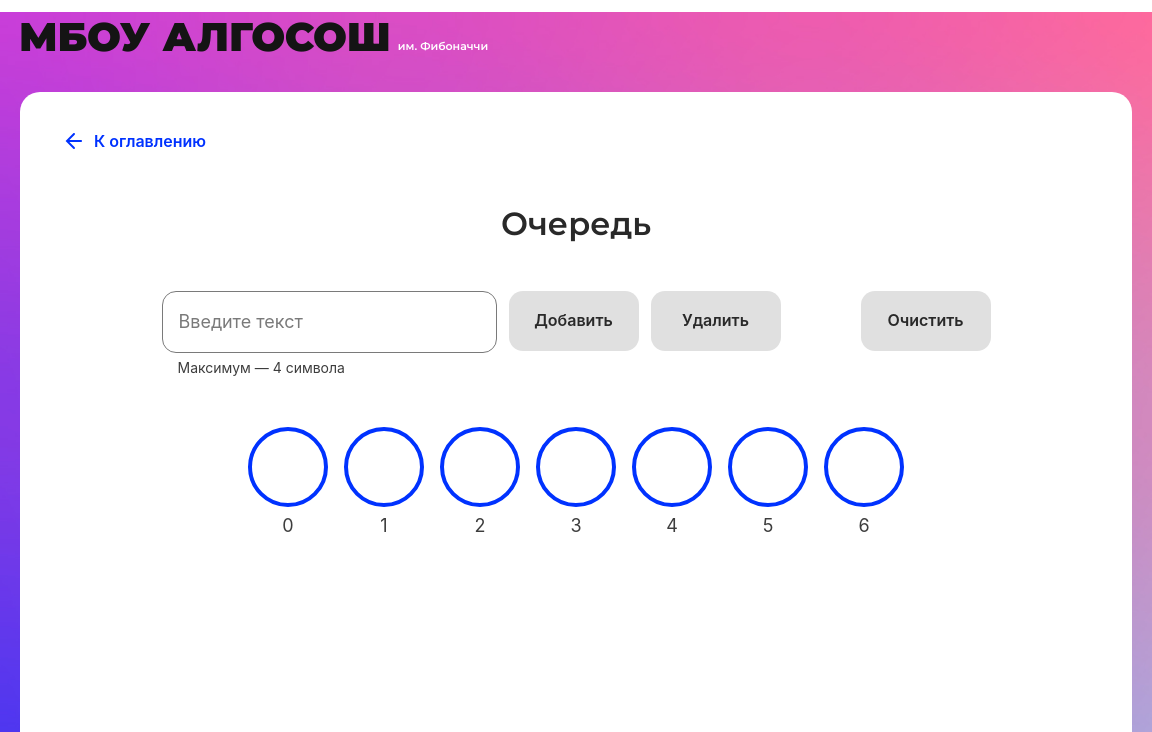
Scenario: Queue component testing › should check whether the element was added to the queue correctly
The width and height of the screenshot is (1152, 732).
In the field with placeholder "Введите текст": (330, 322) [162,291,497,353], type "5"
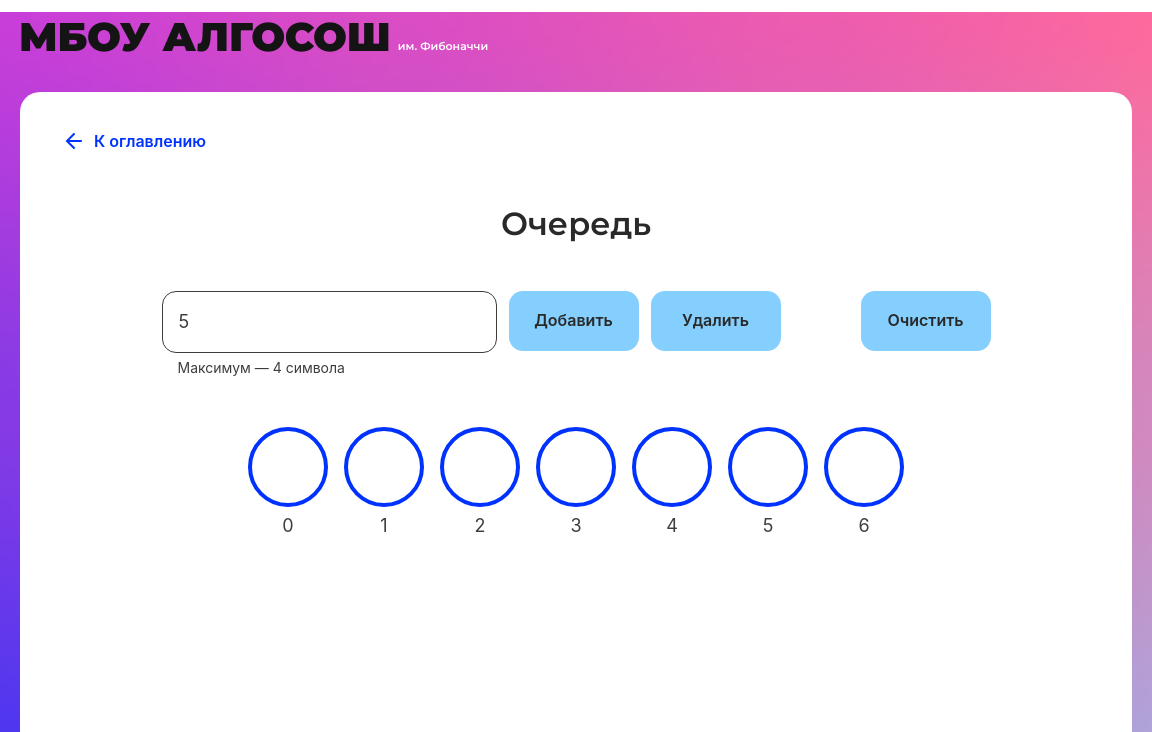
Click the button with test id "add-button": (574, 321) [509,291,639,351]
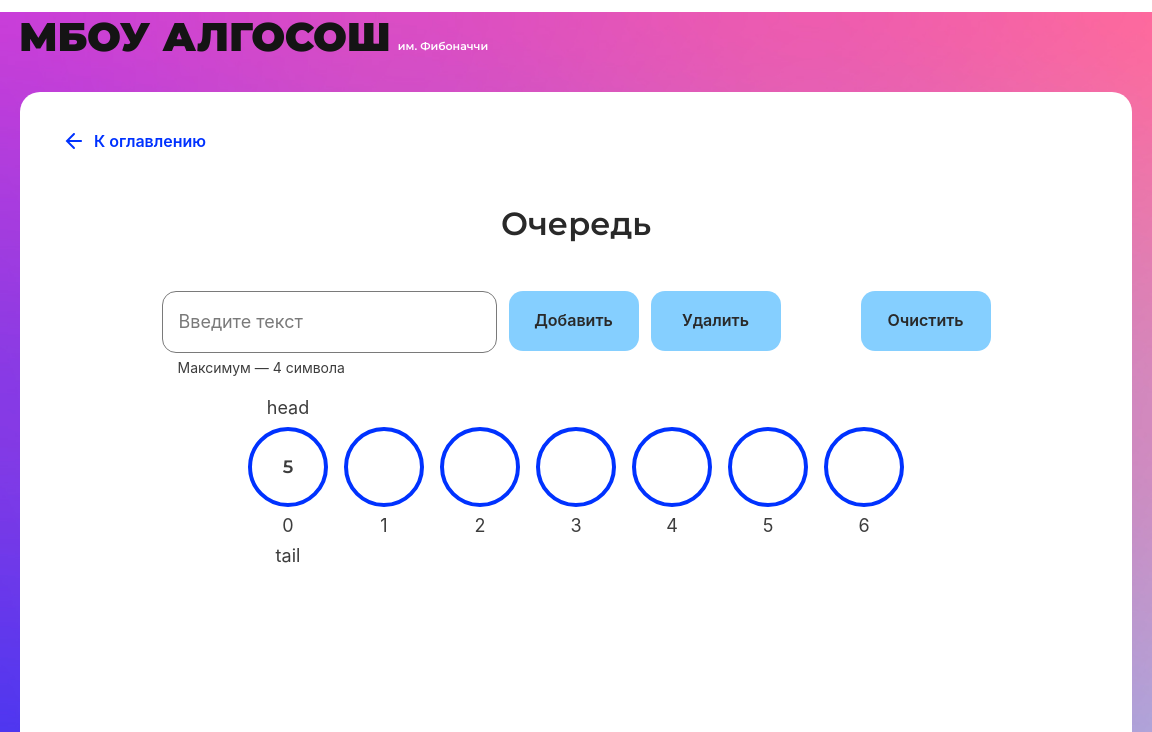
Expected: the text with test id "circle-0" reads "5", [283,456,294,478]
Expected: the text "head" is shown, [267,397,309,419]
Expected: the text "tail" is shown, [276,545,300,567]
In the field with placeholder "Введите текст": (330, 322) [162,291,497,353], type "6"
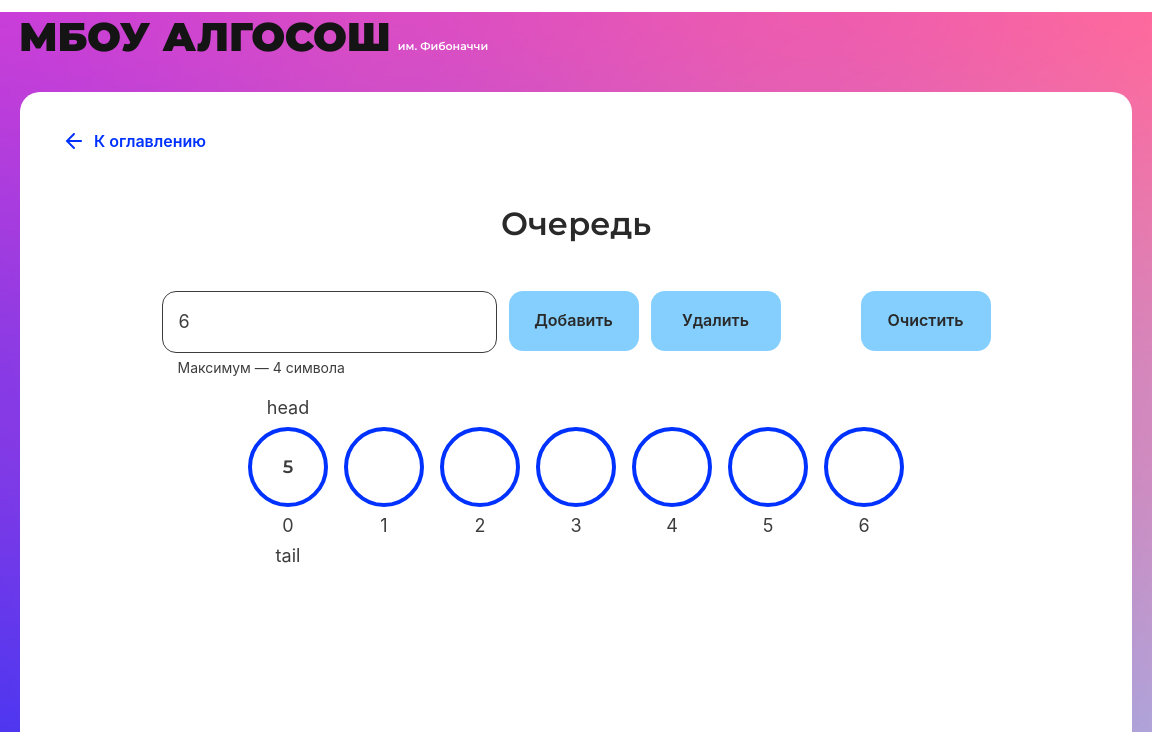
Click the button with test id "add-button": (574, 321) [509,291,639,351]
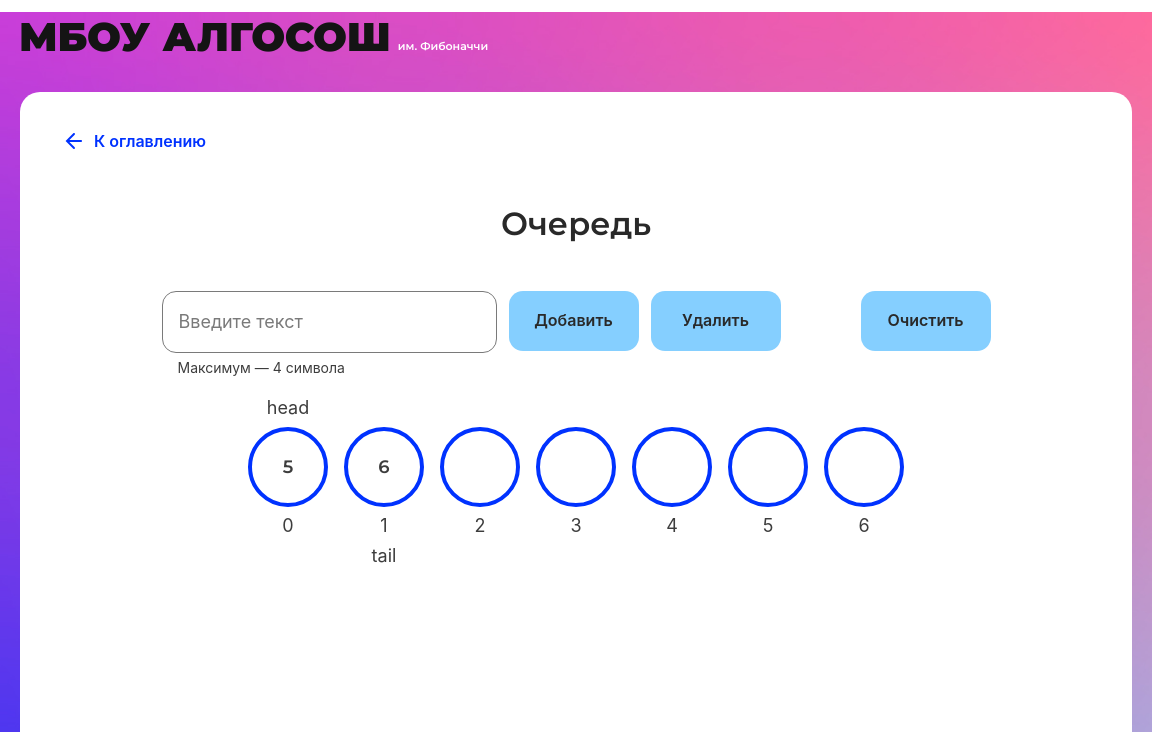
Expected: the text "tail" is shown, [372,545,396,567]
Expected: the text with test id "circle-1" reads "6", [378,456,389,478]
